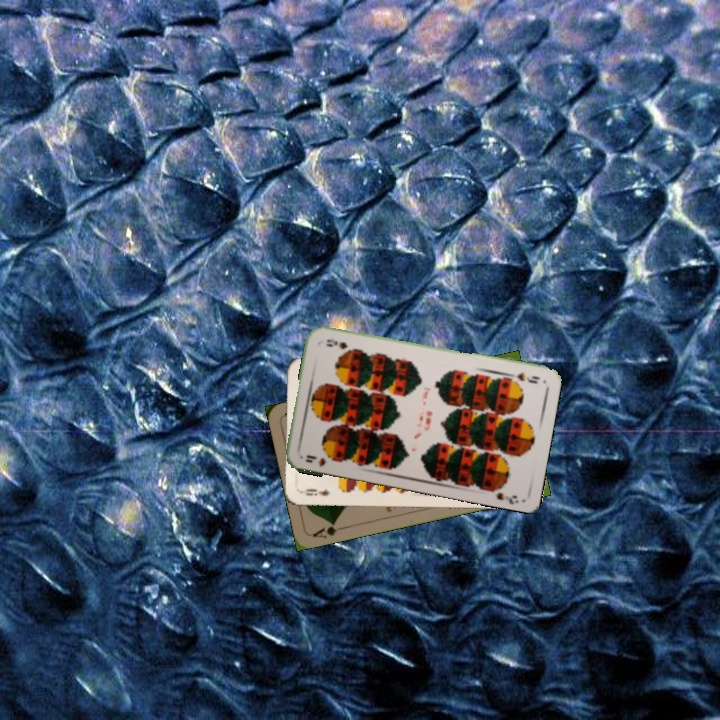E9: (299, 484, 332, 498)
GA: (308, 518, 348, 541)
S9: (505, 367, 543, 386), (301, 451, 339, 469)
